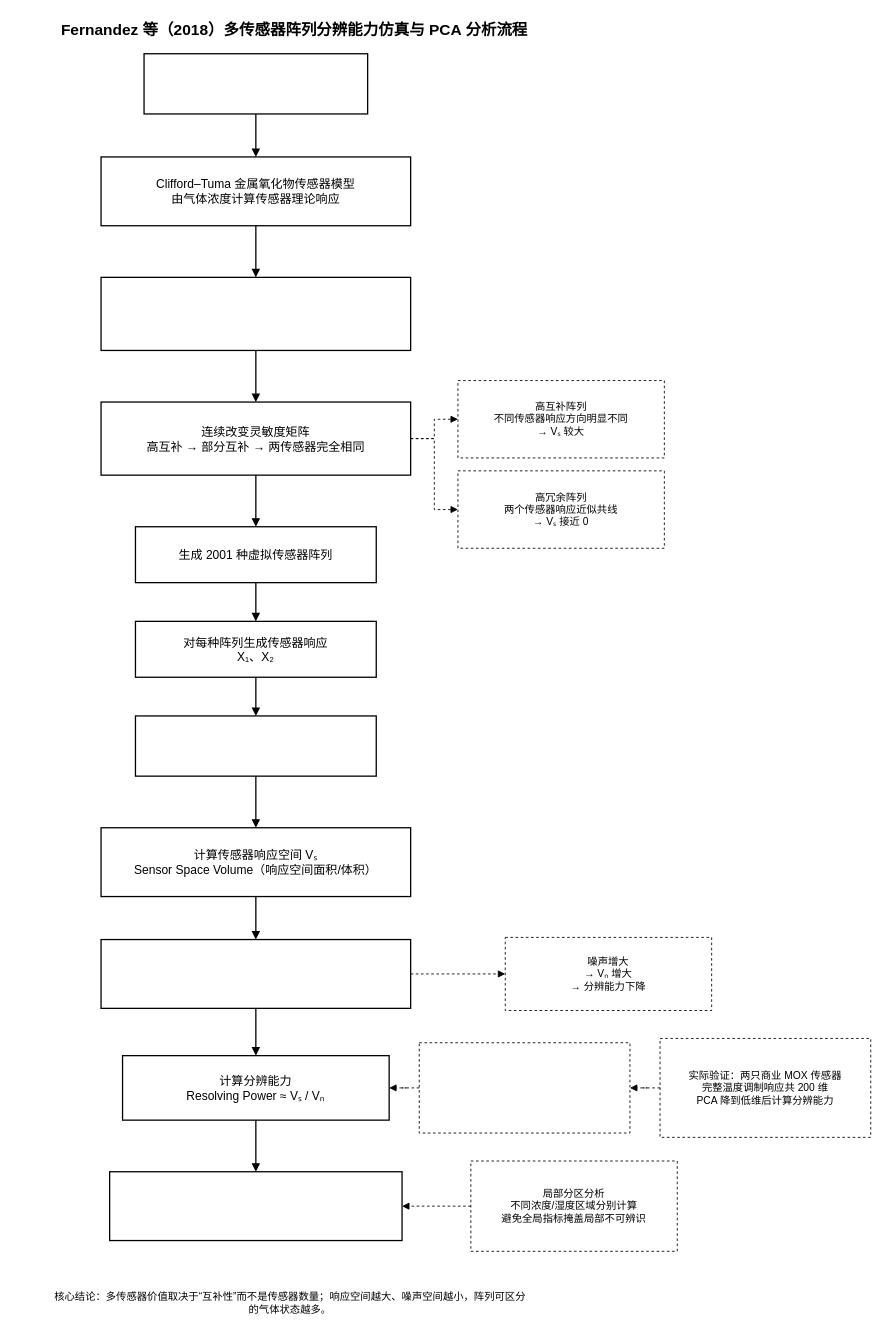
The diagram is 886 pixels wide and 1341 high, and some of its shapes have lost their labels. The centre of each missing label's shape, as x and y in pixels:
"加入随机测量噪声 Gaussian Noise（高斯噪声）" belongs at (x=255, y=745).
"计算噪声空间 Vₙ Noise Volume（单次测量的不确定范围）" belongs at (x=255, y=974).
"设定两种气体浓度范围 C₁、C₂：100–1000 ppm" belongs at (x=255, y=83).
"设定灵敏度矩阵 K Kᵢⱼ：第 i 个传感器对第 j 种气体的灵敏度" belongs at (x=255, y=313).
"评价传感器阵列设计 选择性、互补性、冗余度、抗噪能力" belongs at (x=255, y=1206).
"高维真实传感器数据 先尺度统一，再用 PCA 降维 再计算凸包面积/体积" belongs at (x=524, y=1087).
